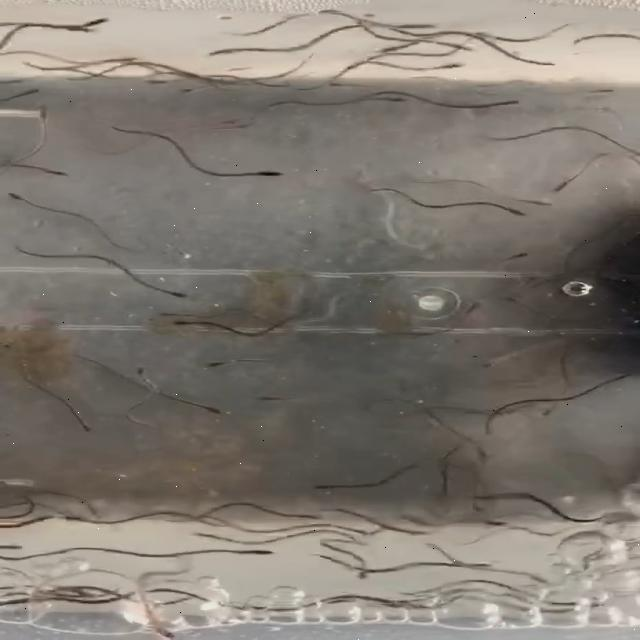active_glass_eel: (398, 13, 443, 38), (24, 104, 66, 128), (488, 198, 528, 222), (208, 115, 262, 132), (150, 283, 196, 301), (559, 588, 609, 604), (98, 50, 147, 66), (478, 96, 526, 112), (10, 85, 50, 104), (143, 70, 183, 88), (372, 41, 420, 56), (80, 14, 114, 34), (500, 247, 534, 267), (494, 290, 530, 308), (38, 508, 74, 526), (53, 22, 93, 38), (201, 44, 241, 60), (178, 80, 218, 96), (0, 184, 32, 204), (193, 401, 230, 417), (146, 622, 178, 640), (204, 358, 244, 372), (472, 450, 500, 470), (245, 167, 287, 180), (574, 599, 608, 615), (520, 195, 556, 210), (36, 166, 74, 180), (153, 305, 191, 319), (326, 527, 364, 541), (546, 180, 578, 196), (534, 401, 566, 417), (378, 88, 408, 105), (436, 54, 464, 72), (126, 364, 162, 378), (454, 299, 484, 315), (312, 481, 344, 496), (250, 389, 286, 402), (72, 418, 96, 437), (482, 518, 514, 532), (462, 559, 494, 573), (290, 510, 327, 522), (469, 496, 491, 514), (0, 541, 29, 554), (244, 547, 276, 558), (350, 568, 374, 582), (165, 318, 202, 327)
